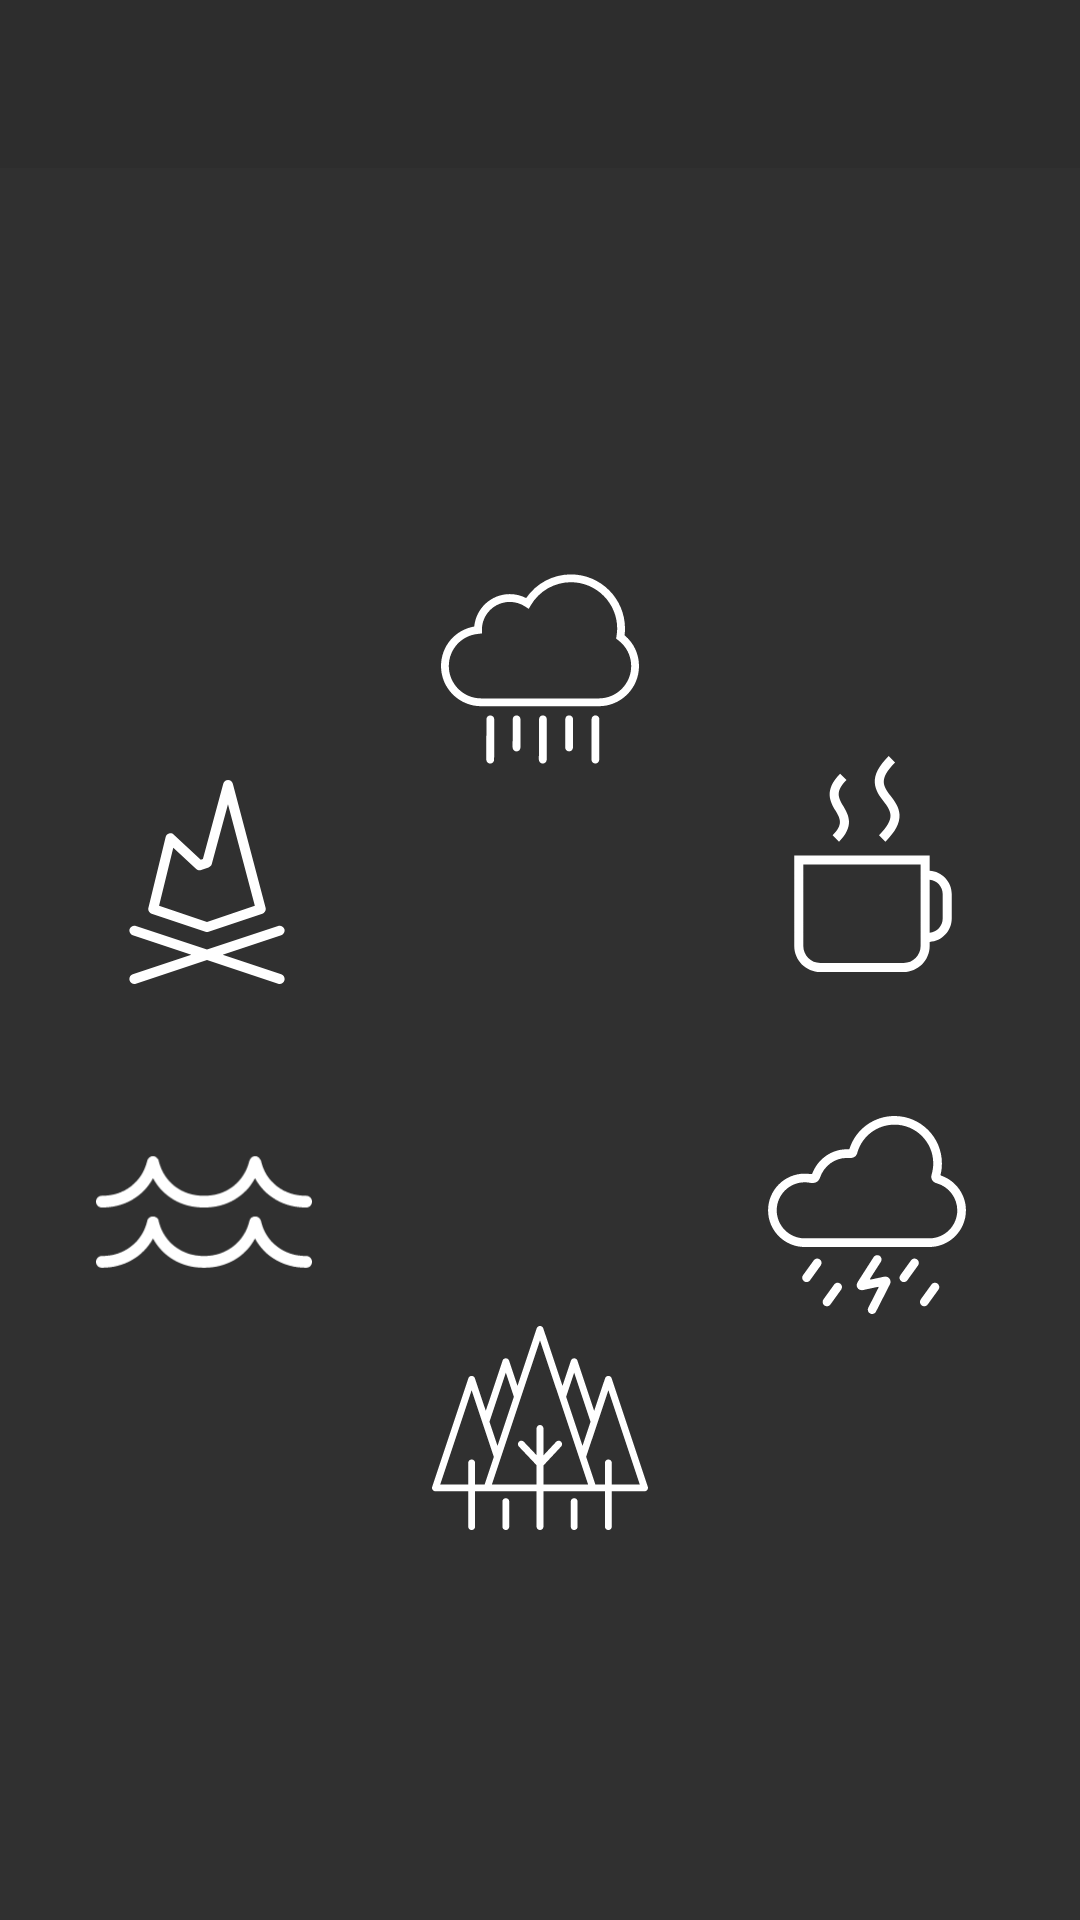

Icons on this 1080x1920 Android screen, each with its box as (x1, y1, x2, y2):
ambience bonfire: (129, 780, 285, 984)
ambience coffee: (794, 756, 952, 972)
ambience rain: (441, 574, 639, 764)
ambience storm: (768, 1116, 966, 1314)
ambience waves: (96, 1156, 312, 1268)
ambience woods: (432, 1326, 648, 1530)
